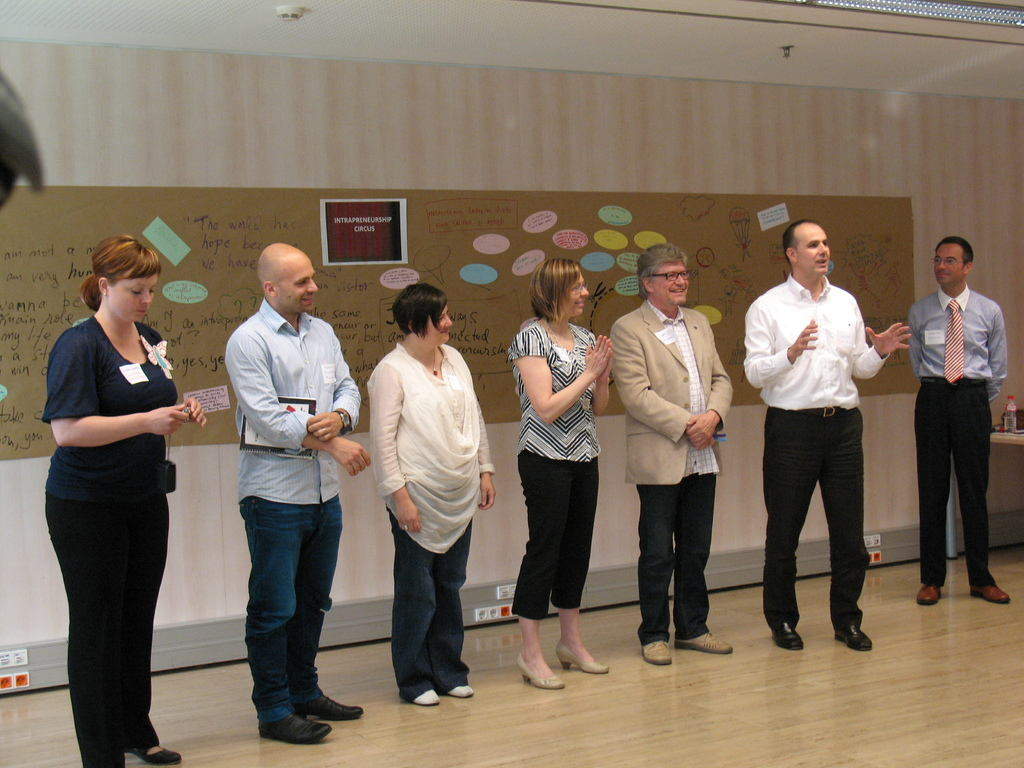Footwear: (260, 713, 333, 744), (552, 636, 608, 672), (292, 693, 363, 720), (676, 631, 735, 655), (515, 657, 562, 687), (121, 744, 182, 764), (833, 623, 872, 651), (771, 616, 803, 650), (642, 636, 674, 664), (972, 580, 1009, 602), (916, 582, 941, 606), (412, 688, 440, 704), (451, 684, 473, 696)
